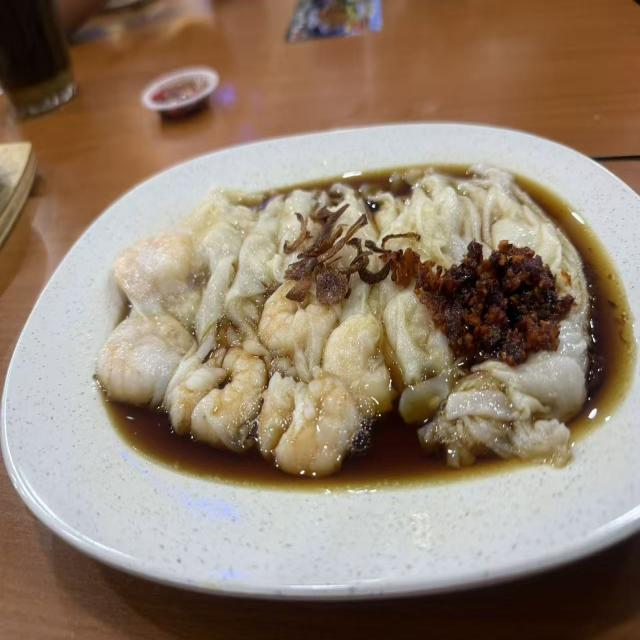Chee Cheong Fun: (80, 146, 618, 524)
